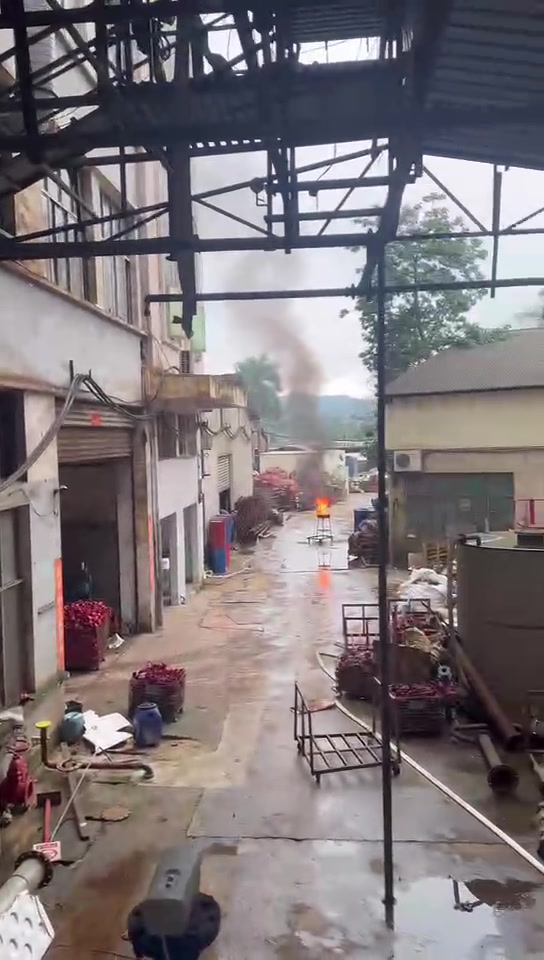fire: (315, 496, 329, 514)
